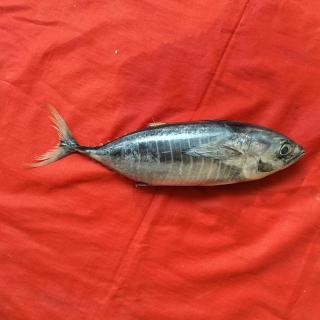Ikan: (23, 94, 307, 207)
